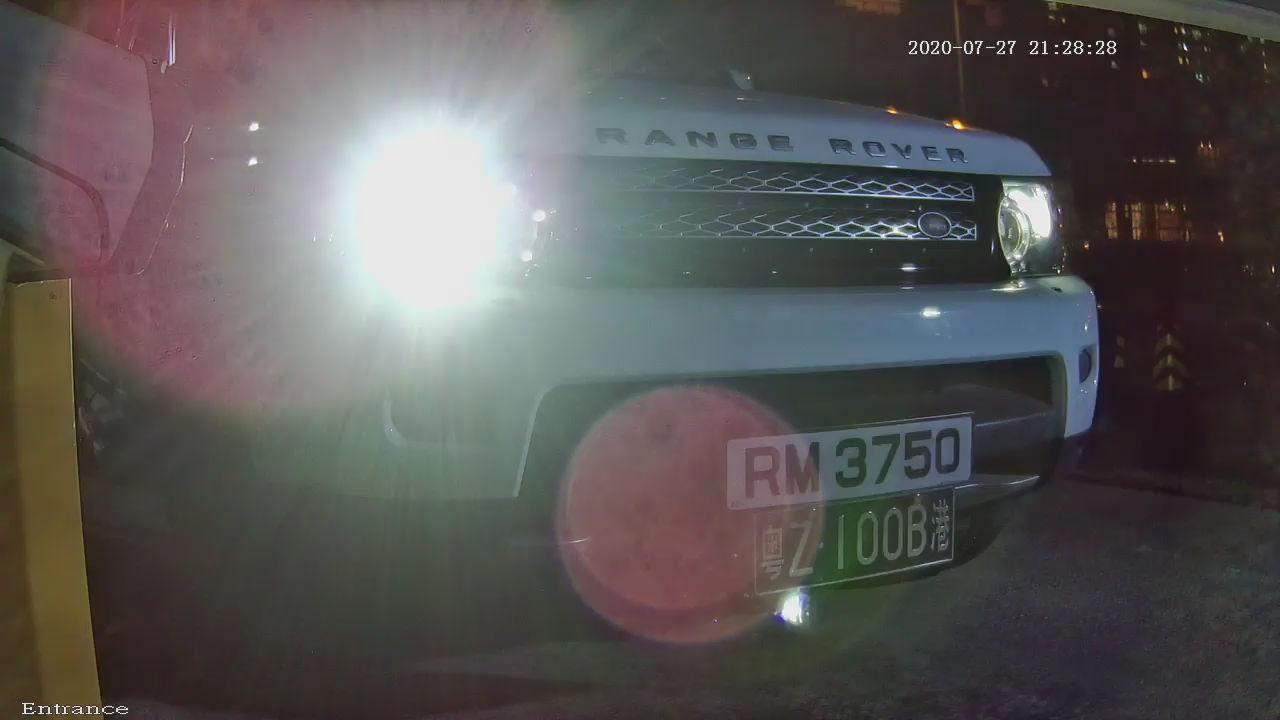privatecar: (98, 7, 1121, 682)
